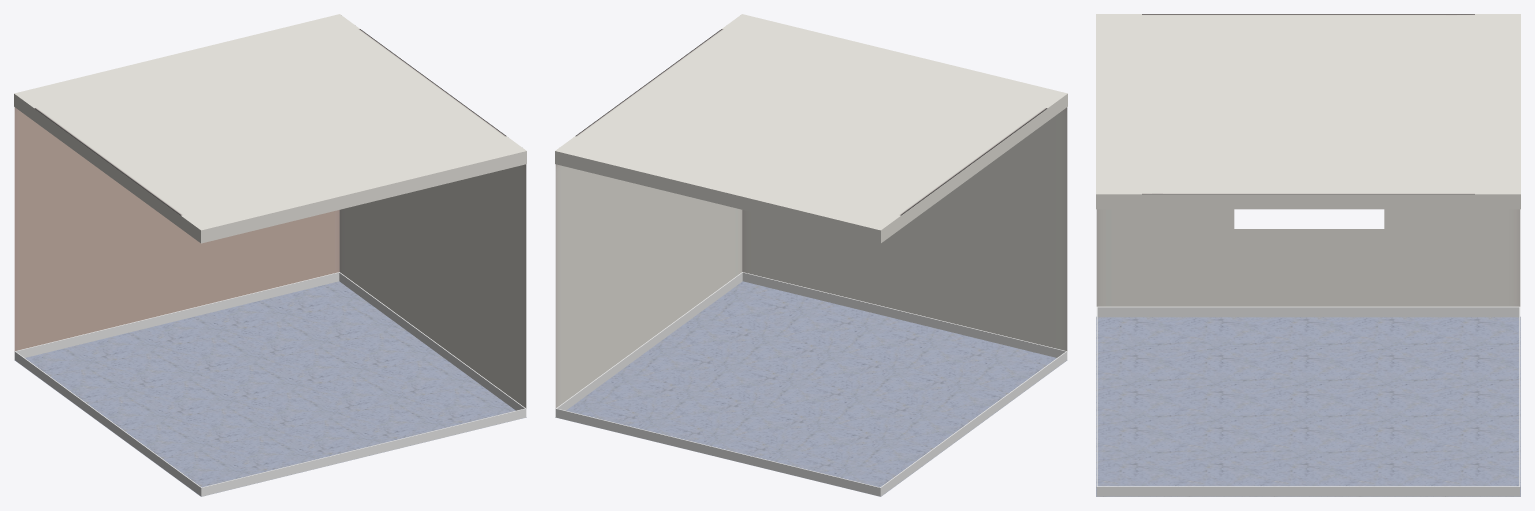
The model's file is Room_Variants_latest.glb.
The picture shows the model from 3 angles, left to right: view 1: azimuth 30°, elevation 25°; view 2: azimuth 150°, elevation 25°; view 3: azimuth 270°, elevation 25°; orthographic projection. The views are drawn at different scales.
Visible parts, largest first — view 1: Cealing, Floor, Front_Wall, Right_Wall, Skrit; view 2: Cealing, Floor, Back_Wall, Right_Wall, Skrit; view 3: Cealing, Floor, Left_Wall, Skrit.
Part boxes in pixels (x1,y1,x2,y2): Cealing: [14, 14, 526, 243]; Floor: [14, 281, 526, 496]; Front_Wall: [14, 107, 339, 350]; Right_Wall: [339, 164, 526, 408]; Skrit: [14, 272, 526, 496]; Cealing: [555, 14, 1067, 243]; Floor: [555, 281, 1067, 496]; Back_Wall: [742, 107, 1067, 350]; Right_Wall: [555, 164, 742, 408]; Skrit: [555, 272, 1067, 496]; Cealing: [1096, 14, 1520, 209]; Floor: [1096, 316, 1520, 496]; Left_Wall: [1096, 209, 1520, 306]; Skrit: [1096, 306, 1520, 496].
Size of the model in its own units: 3.9 by 3.05 by 3.88.
6 materials, 4 textured.
